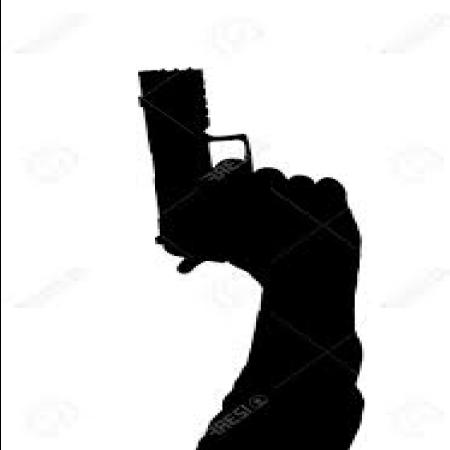Pistol: (130, 63, 346, 274)
